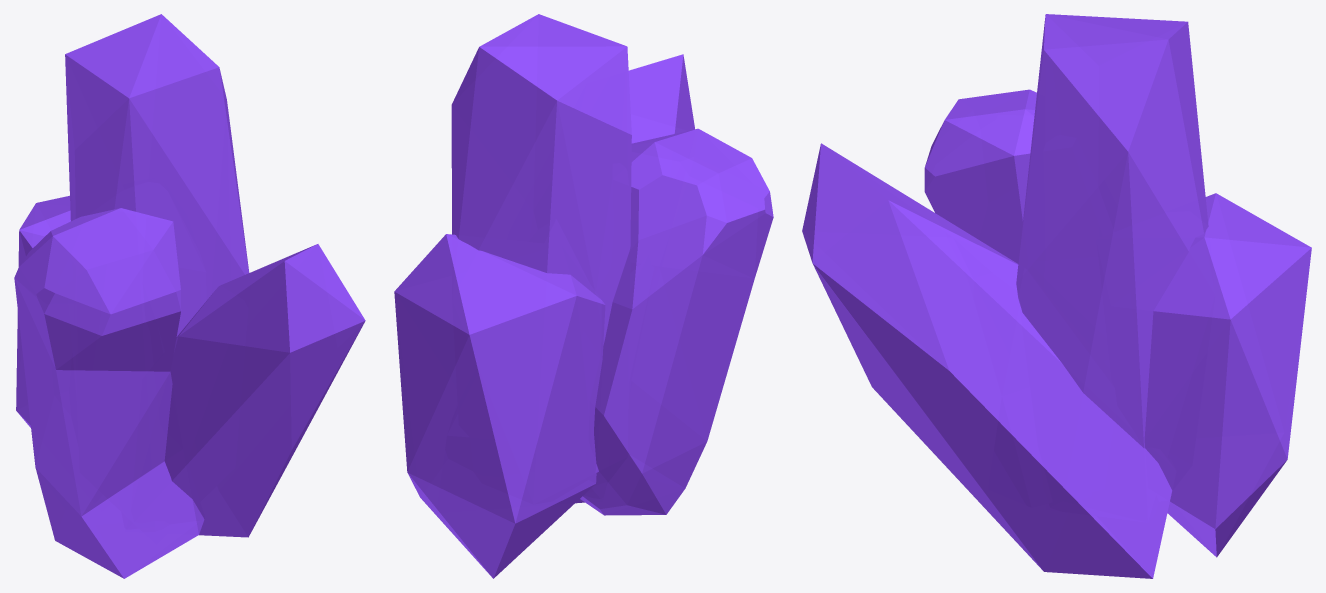
File: bundle_crystals.glb
3 renders of one model, left to right at view 1: azimuth 30°, elevation 25°; view 2: azimuth 150°, elevation 25°; view 3: azimuth 270°, elevation 25°, orthographic. The views are drawn at different scales.
Visible parts, largest first — view 1: bundle.of.crystals; view 2: bundle.of.crystals; view 3: bundle.of.crystals.
Part boxes in pixels (x1=…): bundle.of.crystals: x1=14, y1=14, x2=365, y2=578; bundle.of.crystals: x1=394, y1=14, x2=773, y2=578; bundle.of.crystals: x1=802, y1=14, x2=1311, y2=578.
Size of the model in its own units: 2.88 by 4.99 by 4.29.
